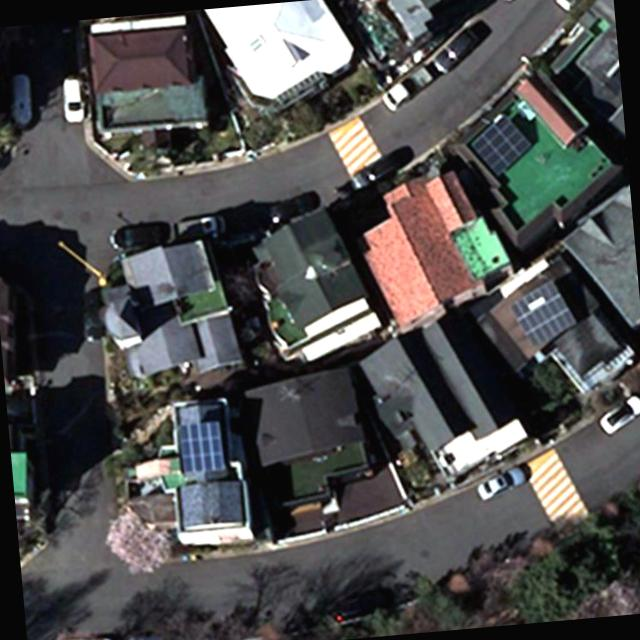solar: (506, 274, 578, 354), (466, 110, 535, 178), (177, 418, 228, 476)
